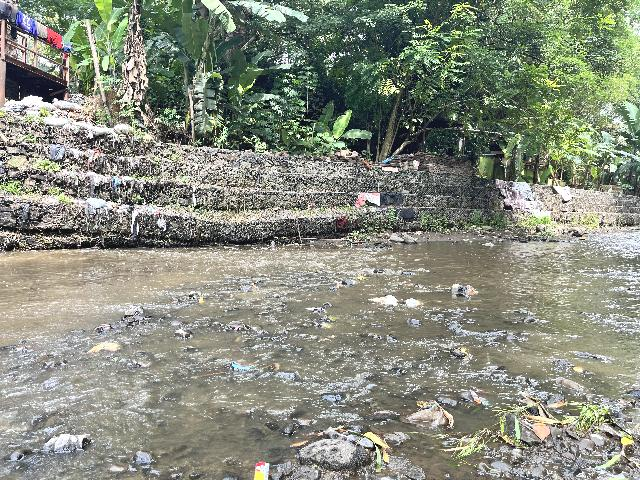Sampah Anorganik: (405, 395, 455, 430), (446, 281, 484, 302), (366, 293, 398, 307), (226, 358, 255, 371), (251, 462, 269, 480), (470, 389, 486, 406), (404, 297, 424, 309), (300, 306, 326, 312), (354, 274, 368, 281), (271, 293, 279, 297)
Sampah Organik: (491, 384, 640, 480), (293, 424, 388, 466), (82, 338, 120, 353), (453, 347, 472, 359), (91, 323, 114, 332), (263, 361, 279, 372), (573, 364, 590, 373), (325, 314, 336, 324), (318, 323, 332, 329), (198, 296, 205, 305), (251, 283, 259, 289), (171, 300, 179, 304), (334, 283, 340, 288)
